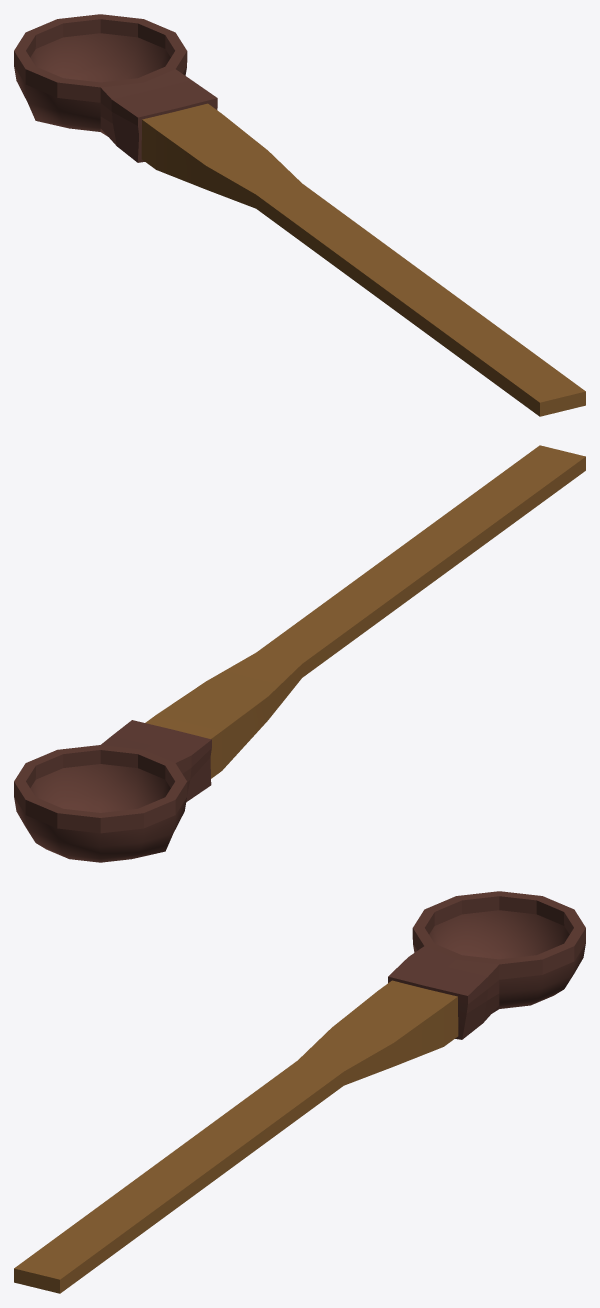
Rendered from SM_catapult_part_06.fbx.
3 renders of one model, top to bottom at view 1: azimuth 30°, elevation 25°; view 2: azimuth 150°, elevation 25°; view 3: azimuth 330°, elevation 25°, orthographic.
Visible parts, largest first — view 1: catapult_part_06; view 2: catapult_part_06; view 3: catapult_part_06.
Part boxes in pixels (x1,y1,x2,y2): catapult_part_06: (14, 14, 585, 416); catapult_part_06: (14, 445, 585, 862); catapult_part_06: (14, 891, 585, 1293).
Size of the model in its own units: 65.7 by 27.9 by 384.
